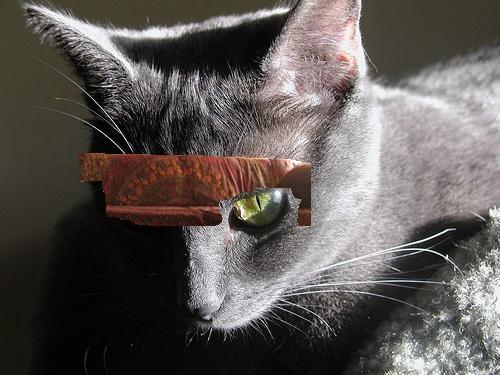tampered: (79, 153, 311, 226)
